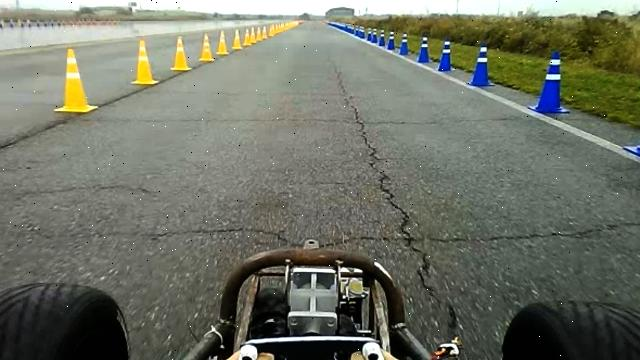blue cone: (528, 50, 570, 114), (623, 67, 640, 161), (467, 41, 495, 86), (437, 36, 454, 72), (416, 35, 432, 63), (398, 32, 409, 55), (387, 30, 396, 50), (378, 31, 386, 46)
yellow cone: (54, 47, 99, 113), (132, 39, 160, 85), (170, 35, 192, 71), (199, 32, 214, 62), (217, 29, 229, 55), (232, 29, 242, 50), (243, 29, 252, 46), (261, 26, 268, 40)
